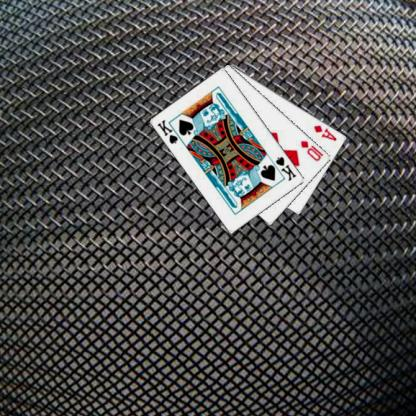10D: (298, 138, 325, 162)
AD: (311, 122, 338, 142)
KS: (154, 117, 184, 145), (273, 154, 298, 182)
